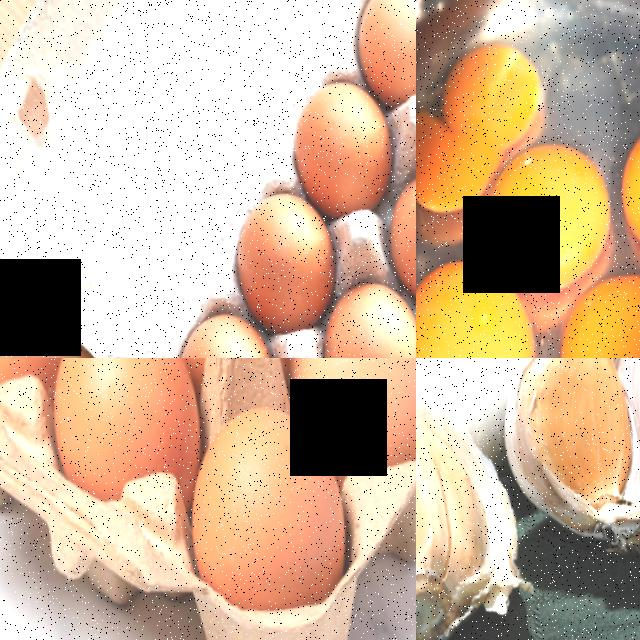egg_: (175, 406, 343, 624), (37, 358, 194, 495), (477, 142, 611, 296), (287, 358, 416, 479), (228, 192, 331, 337), (290, 81, 390, 218), (416, 260, 531, 358), (313, 286, 416, 358), (353, 0, 416, 114), (380, 172, 416, 313), (163, 312, 272, 358), (610, 114, 640, 272)
garlic: (511, 358, 634, 543), (416, 421, 491, 640)
